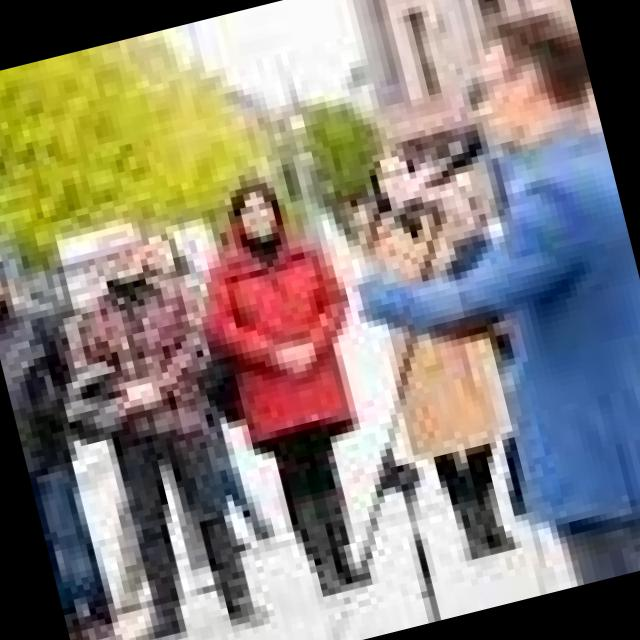Jacket: (344, 189, 531, 484), (56, 264, 240, 486), (192, 229, 361, 451)
